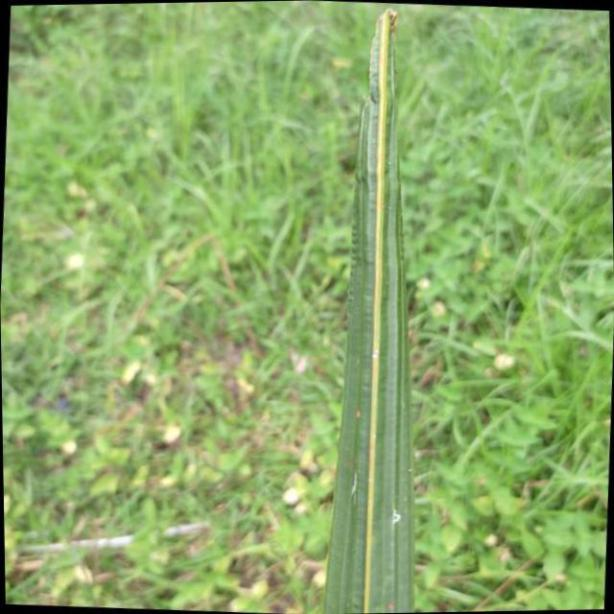Boron: (328, 0, 417, 614)
